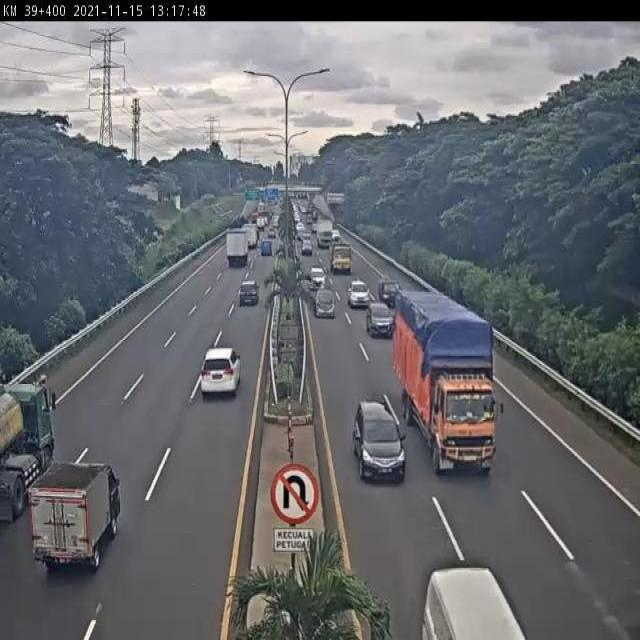car: (32, 465, 120, 571), (353, 395, 407, 488), (198, 345, 243, 403), (365, 300, 395, 343), (313, 285, 337, 320), (238, 277, 261, 311), (379, 276, 402, 307), (350, 277, 371, 308)
truck-l-: (395, 291, 499, 476)
truck-xl-: (0, 384, 58, 528)
